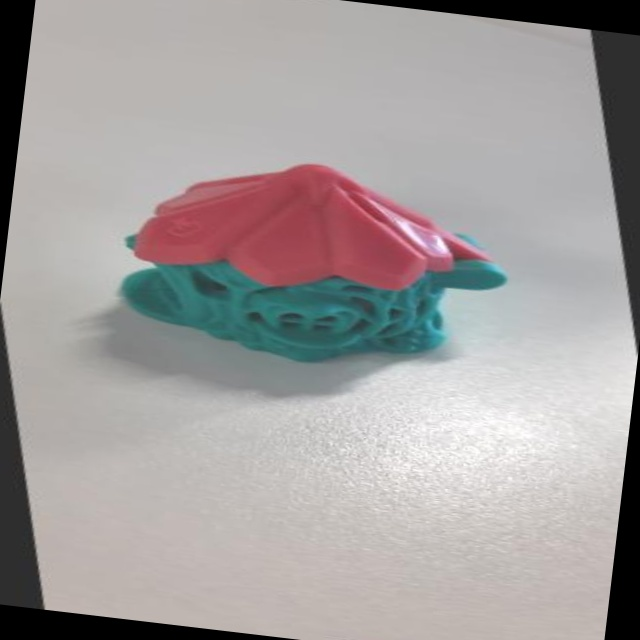House: (59, 111, 565, 404)
